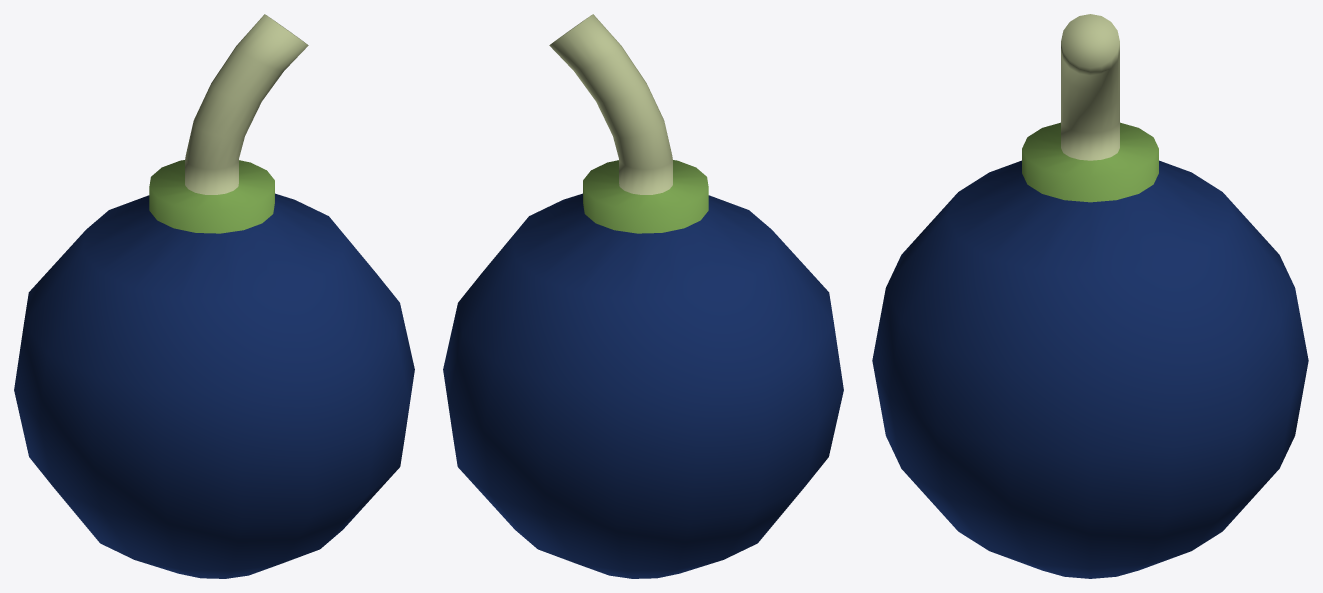
Rendered from Bomb.fbx.
The picture shows the model from 3 angles, left to right: view 1: azimuth 30°, elevation 25°; view 2: azimuth 150°, elevation 25°; view 3: azimuth 270°, elevation 25°; orthographic projection. The views are drawn at different scales.
Visible parts, largest first — view 1: Bomb; view 2: Bomb; view 3: Bomb.
Part boxes in pixels (box(x1,y1,x2,y2)): Bomb: box(14, 14, 414, 578); Bomb: box(443, 14, 843, 578); Bomb: box(872, 14, 1308, 578).
Bounding box in the file's own units: 1.63 × 2.38 × 1.63.
